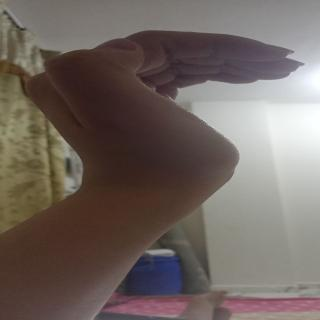HAA: (0, 18, 309, 200)
